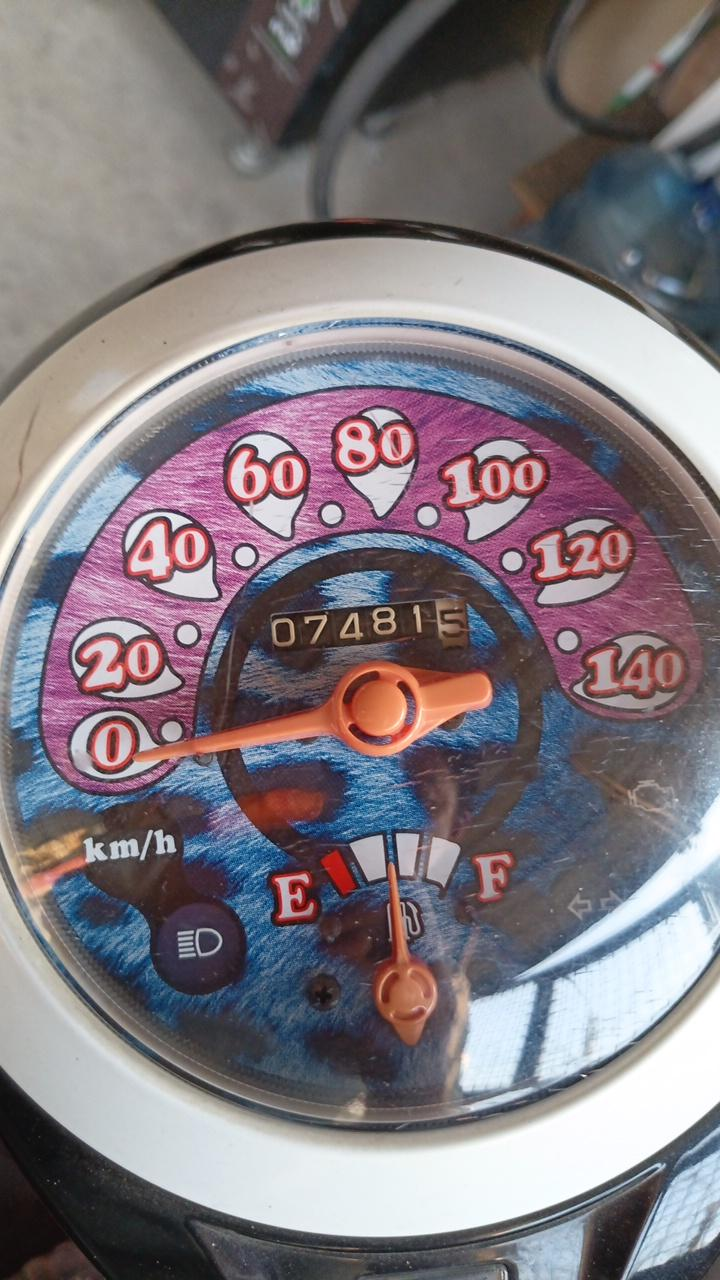0: (271, 617, 296, 648)
1: (412, 603, 423, 635)
4: (338, 611, 364, 643)
5: (438, 606, 466, 639)
7: (303, 614, 328, 646)
8: (371, 606, 397, 636)
odometer: (269, 595, 470, 660)
